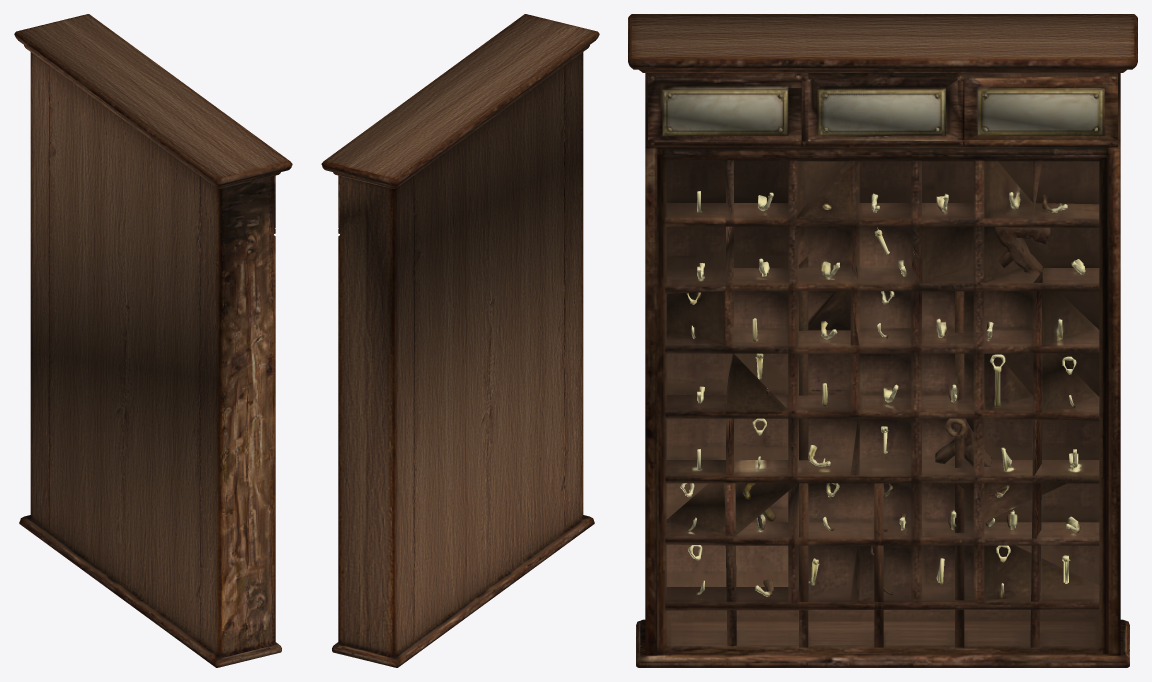
3 renders of one model, left to right at view 1: azimuth 30°, elevation 25°; view 2: azimuth 150°, elevation 25°; view 3: azimuth 270°, elevation 25°, orthographic. The views are drawn at different scales.
Parts seen in each view (by area): view 1: tripo_node_08a0f56d-1175-46c6-b352-9dce29974fa7; view 2: tripo_node_08a0f56d-1175-46c6-b352-9dce29974fa7; view 3: tripo_node_08a0f56d-1175-46c6-b352-9dce29974fa7.
Boxes of the visible parts, <box> form: tripo_node_08a0f56d-1175-46c6-b352-9dce29974fa7: <box>14,14,292,667</box>; tripo_node_08a0f56d-1175-46c6-b352-9dce29974fa7: <box>321,14,599,667</box>; tripo_node_08a0f56d-1175-46c6-b352-9dce29974fa7: <box>628,14,1137,667</box>.
Bounding box in the file's own units: 0.1621 × 0.998 × 0.752.
Materials: 1 (1 with a texture image).
